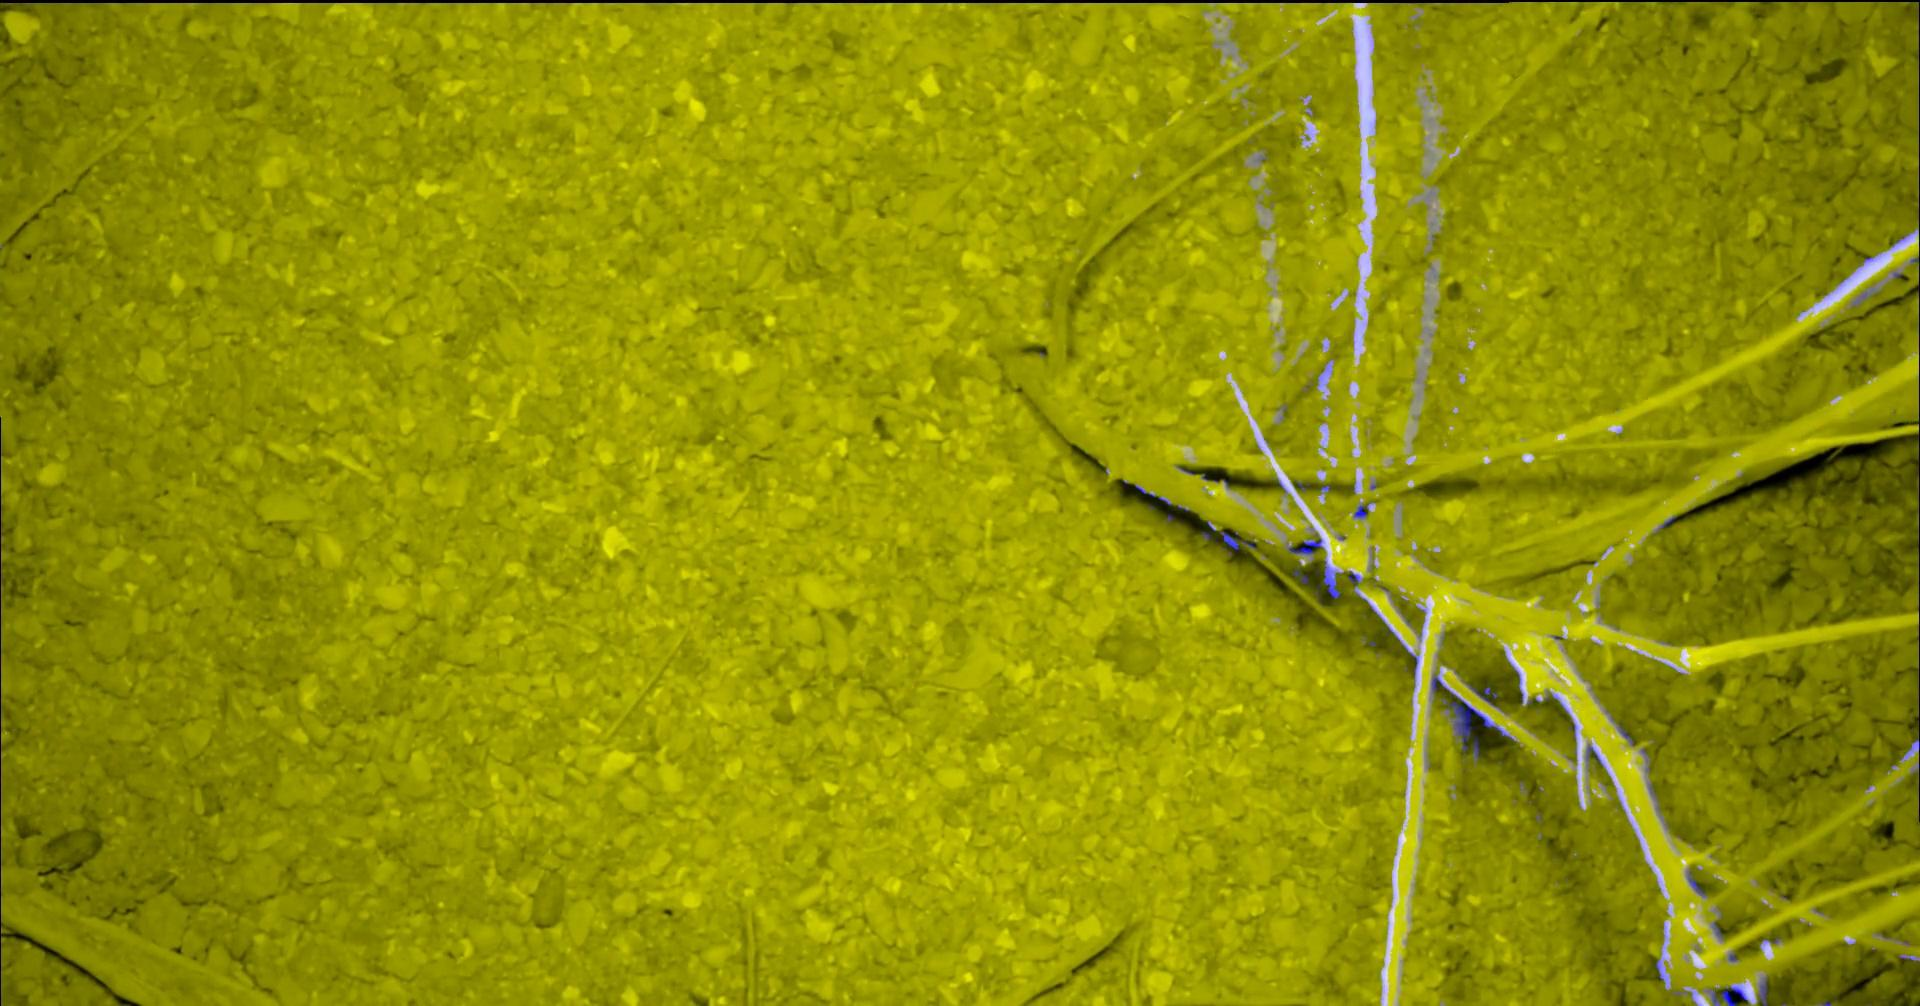ant: (1431, 676, 1515, 760), (1710, 986, 1747, 1005), (1219, 531, 1255, 550), (1322, 560, 1340, 598), (1468, 683, 1497, 706), (1288, 539, 1322, 553), (1688, 870, 1705, 895), (1291, 564, 1308, 583), (1757, 977, 1768, 1005), (1352, 504, 1368, 518)
